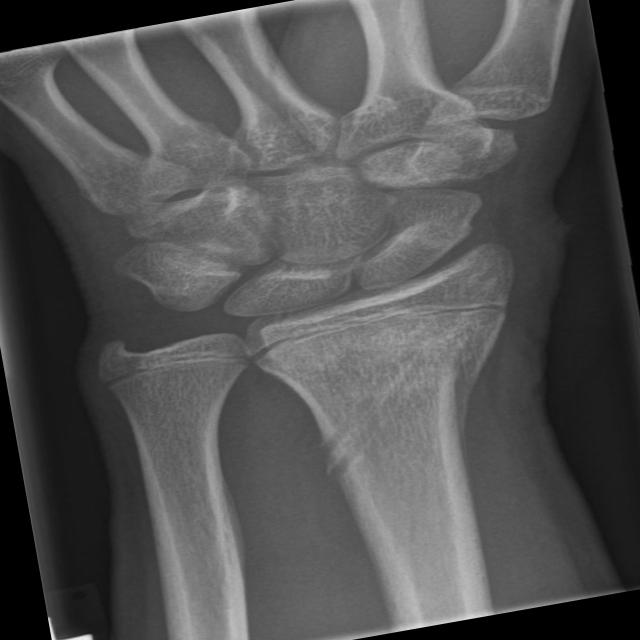fracture: (228, 263, 556, 380), (83, 320, 286, 404)
